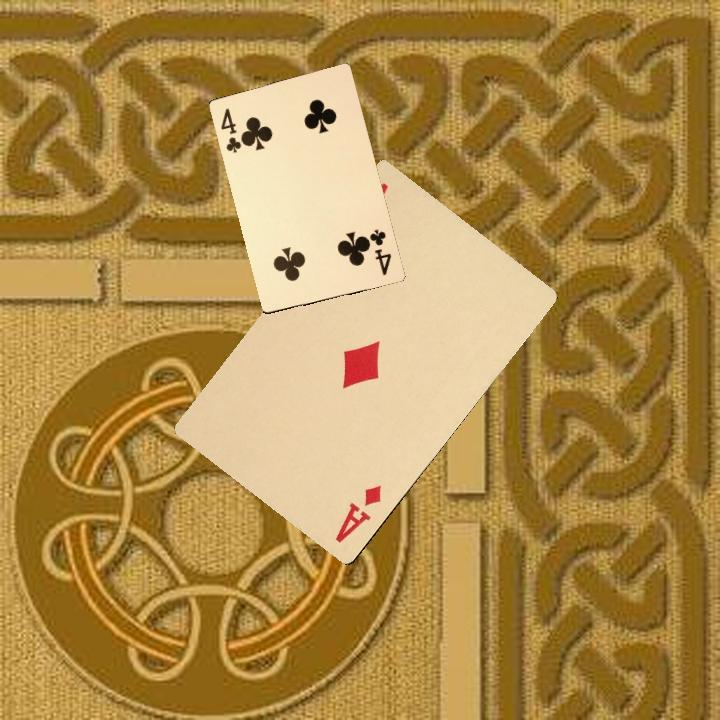4c: (217, 104, 249, 156), (364, 225, 394, 278)
Ad: (330, 481, 385, 546)
